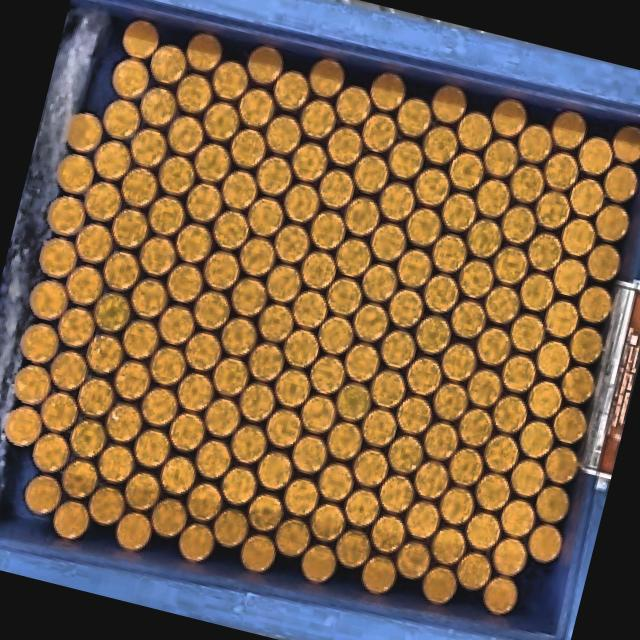vial: (4, 405, 42, 447), (149, 44, 187, 85), (102, 99, 140, 140), (47, 195, 85, 236), (39, 237, 77, 278), (97, 443, 135, 484), (69, 418, 107, 459), (32, 432, 70, 473), (58, 306, 95, 348), (157, 155, 195, 195), (139, 87, 177, 127), (93, 292, 131, 332), (93, 140, 131, 180), (40, 392, 78, 432), (273, 70, 310, 111), (203, 250, 240, 291), (202, 101, 239, 142), (185, 182, 222, 223), (175, 222, 212, 263), (166, 262, 203, 303), (175, 73, 212, 114), (167, 115, 204, 156), (148, 195, 185, 236), (130, 278, 167, 319), (130, 127, 167, 168), (120, 167, 157, 208), (112, 58, 149, 99), (75, 223, 112, 264), (66, 112, 103, 153), (57, 153, 94, 194), (212, 356, 249, 397), (194, 439, 231, 480), (178, 522, 215, 563), (159, 455, 196, 496), (150, 497, 187, 538), (113, 360, 150, 401), (105, 402, 142, 443), (88, 485, 125, 526), (21, 323, 58, 364), (50, 350, 87, 391), (77, 377, 114, 418), (61, 458, 98, 499), (24, 474, 61, 515), (220, 317, 257, 357), (246, 45, 283, 85), (211, 61, 248, 101), (185, 32, 222, 72), (111, 209, 148, 249), (122, 19, 159, 59), (84, 181, 121, 221), (30, 280, 67, 320), (230, 424, 267, 464), (212, 508, 249, 548), (149, 346, 186, 386), (122, 320, 159, 360), (133, 428, 170, 468), (14, 365, 51, 405), (52, 500, 89, 540), (423, 273, 459, 314), (309, 354, 345, 395), (335, 85, 371, 126), (326, 126, 362, 167), (318, 168, 354, 209), (308, 57, 344, 98), (300, 99, 336, 140), (291, 141, 327, 182), (265, 114, 301, 155), (239, 236, 275, 277), (194, 290, 230, 331), (139, 236, 175, 277), (103, 250, 139, 291), (66, 265, 102, 306), (274, 517, 310, 558), (266, 408, 302, 449), (369, 72, 406, 111), (360, 555, 397, 594), (239, 534, 276, 573), (184, 332, 221, 371), (140, 388, 177, 427), (115, 511, 152, 550), (509, 164, 545, 204), (594, 203, 630, 243), (491, 98, 527, 138), (458, 259, 494, 299), (450, 299, 486, 339), (431, 84, 467, 124), (422, 125, 458, 165), (414, 167, 450, 207), (370, 222, 406, 262), (309, 210, 345, 250), (283, 183, 319, 223), (256, 156, 292, 196), (247, 197, 283, 237), (238, 88, 274, 128), (230, 128, 266, 168), (221, 170, 257, 210), (212, 210, 248, 250), (194, 143, 230, 183), (158, 305, 194, 345), (518, 419, 554, 459), (465, 511, 501, 551), (430, 526, 466, 566), (404, 500, 440, 540), (395, 540, 431, 580), (370, 514, 406, 554), (352, 448, 388, 488), (326, 421, 362, 461), (300, 543, 336, 583), (291, 434, 327, 474), (283, 477, 319, 517), (256, 451, 292, 491), (248, 342, 284, 382), (239, 382, 275, 422), (204, 398, 240, 438), (186, 482, 222, 522), (177, 372, 213, 412), (168, 412, 204, 452), (124, 471, 160, 511), (86, 334, 122, 374), (396, 97, 431, 138), (388, 139, 423, 180), (379, 181, 414, 222), (344, 342, 379, 383), (361, 112, 396, 153), (335, 528, 370, 569), (310, 502, 345, 543), (560, 218, 596, 257), (484, 285, 520, 324), (466, 219, 502, 258), (448, 151, 484, 190), (415, 315, 451, 354), (405, 207, 441, 246), (396, 249, 432, 288), (361, 263, 397, 302), (300, 251, 336, 290), (283, 329, 319, 368), (231, 278, 267, 317), (482, 576, 518, 615), (483, 434, 519, 473), (317, 463, 353, 502), (274, 369, 310, 408), (221, 466, 257, 505), (578, 136, 613, 176), (551, 110, 586, 150), (517, 124, 552, 164), (527, 232, 562, 272), (552, 257, 587, 297), (510, 313, 545, 353), (492, 394, 527, 434), (467, 368, 502, 408), (483, 139, 518, 179), (475, 178, 510, 218), (441, 192, 476, 232), (432, 233, 467, 273), (406, 356, 441, 396), (388, 289, 423, 329), (353, 302, 388, 342), (353, 154, 388, 194), (344, 197, 379, 237), (335, 237, 370, 277), (318, 315, 353, 355), (292, 290, 327, 330), (274, 224, 309, 264), (258, 303, 293, 343), (544, 445, 579, 485), (510, 458, 545, 498), (527, 523, 562, 563), (500, 498, 535, 538), (456, 551, 491, 591), (421, 565, 456, 605), (414, 460, 449, 500), (388, 434, 423, 474), (344, 488, 379, 528), (335, 382, 370, 422), (456, 112, 492, 150), (544, 152, 579, 191), (603, 164, 638, 203), (569, 178, 604, 217), (535, 190, 570, 229), (501, 205, 536, 244), (577, 285, 612, 324), (544, 300, 579, 339), (535, 340, 570, 379), (527, 380, 562, 419), (519, 273, 554, 312), (501, 354, 536, 393), (493, 246, 528, 285), (476, 327, 511, 366), (433, 382, 468, 421), (380, 329, 415, 368), (370, 369, 405, 408), (327, 277, 362, 316), (266, 264, 301, 303), (492, 537, 527, 576), (448, 448, 483, 487), (439, 487, 474, 526), (396, 396, 431, 435), (379, 475, 414, 514), (361, 408, 396, 447), (248, 493, 283, 532), (553, 405, 587, 445), (458, 408, 492, 448), (301, 394, 335, 434), (441, 343, 476, 381), (535, 485, 570, 523), (475, 473, 510, 511), (423, 422, 458, 460), (586, 243, 620, 282), (569, 326, 603, 365), (561, 366, 595, 405), (611, 125, 640, 164)
